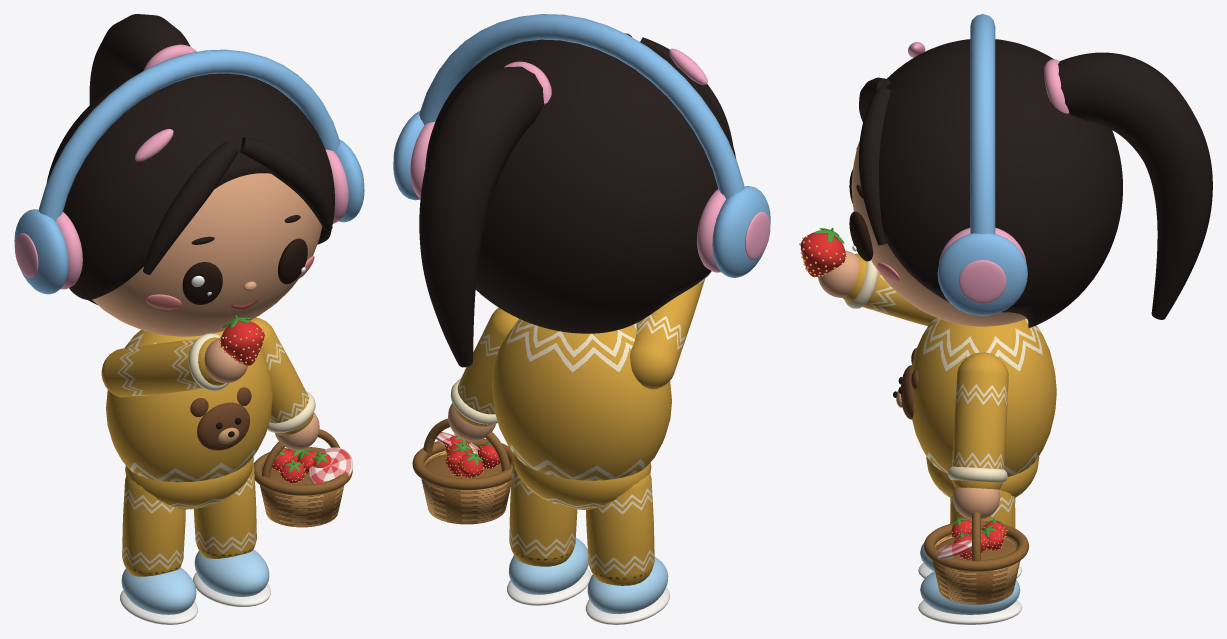
File: strawberry_girl.glb
3 views of the same model, side by side, from view 1: azimuth 30°, elevation 25°; view 2: azimuth 150°, elevation 25°; view 3: azimuth 270°, elevation 25° (orthographic). The views are drawn at different scales.
Parts seen in each view (by area): view 1: HairCap, Head, Sweater, Headband, Leg.R, Sleeve.R, Ponytail, Leg.L, Bangs.R, Bangs.L, EarCup.R, Sleeve.L (+23 smaller); view 2: HairCap, Sweater, Ponytail, Headband, Leg.R, Leg.L, Sleeve.R, EarCup.R, Hips, Sleeve.L, Basket, Shoe.R (+15 smaller); view 3: HairCap, Ponytail, Sweater, Sleeve.L, Headband, EarCup.L, Head, Bangs.L, Basket, BasketRim, Sleeve.R, Strawberry.Hand (+11 smaller).
Part boxes in pixels (box(x1,y1,x2,y2)): HairCap: box(46, 73, 334, 304); Head: box(92, 173, 322, 336); Sweater: box(106, 329, 272, 482); Headband: box(38, 49, 340, 220); Leg.R: box(122, 476, 185, 576); Sleeve.R: box(101, 337, 224, 397); Ponytail: box(89, 14, 190, 104); Leg.L: box(193, 462, 256, 558); Bangs.R: box(143, 141, 237, 274); Bangs.L: box(240, 136, 332, 231); EarCup.R: box(14, 209, 68, 294); Sleeve.L: box(250, 317, 313, 435); HairCap: box(425, 39, 735, 333); Sweater: box(492, 319, 671, 480); Ponytail: box(419, 66, 544, 367); Headband: box(419, 14, 744, 198); Leg.R: box(586, 473, 654, 585); Leg.L: box(509, 459, 577, 566); Sleeve.R: box(630, 277, 705, 389); EarCup.R: box(712, 186, 770, 277); Hips: box(512, 453, 651, 509); Sleeve.L: box(454, 307, 518, 426); Basket: box(421, 450, 511, 524); Shoe.R: box(587, 557, 668, 613); HairCap: box(865, 39, 1122, 327); Ponytail: box(1058, 52, 1212, 319); Sweater: box(911, 317, 1056, 476); Sleeve.L: box(952, 352, 1008, 489); Headband: box(970, 14, 995, 234); EarCup.L: box(937, 233, 1027, 315); Head: box(851, 140, 1026, 326); Bangs.L: box(859, 87, 890, 245); Basket: box(932, 535, 1020, 604); BasketRim: box(923, 520, 1029, 571); Sleeve.R: box(843, 253, 934, 326); Strawberry.Hand: box(799, 228, 847, 277).
Bounding box in the file's own units: 0.636 × 0.995 × 0.6593.
Materials: 22 (3 with a texture image).
